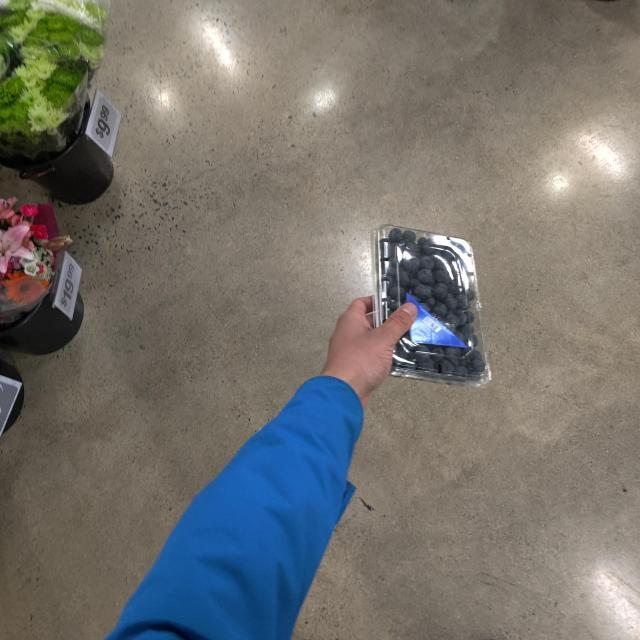Blueberries: (368, 226, 503, 386)
